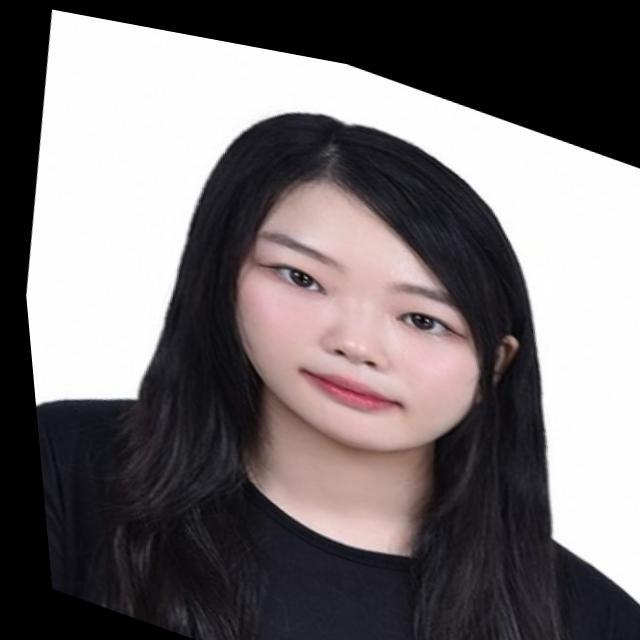Nonhelmet: (172, 84, 530, 470)
